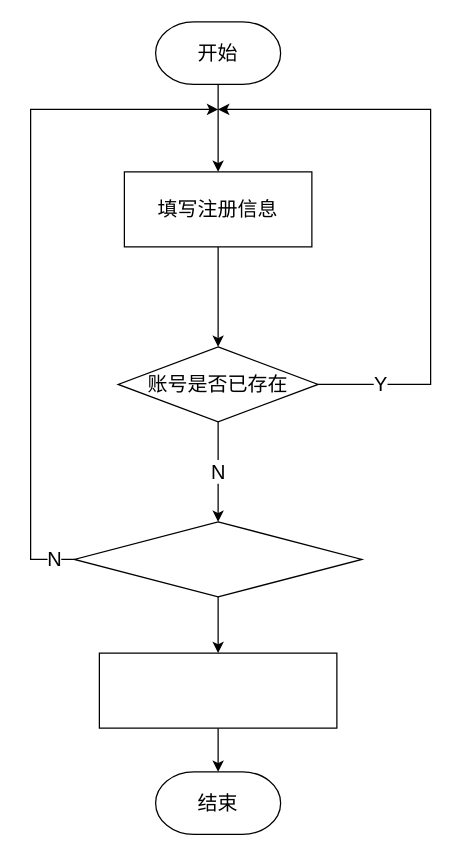
Some shapes in this 463 by 856 pixel diagram are drawn without their labels. The shapes that lost their labels are listed below. From the top down, each one's centre as x and y in pixels, then its label:
At [217,559]: "验证注册信息是否合法".
At [217,690]: "将注册信息保存到数据库，提示注册成功".
